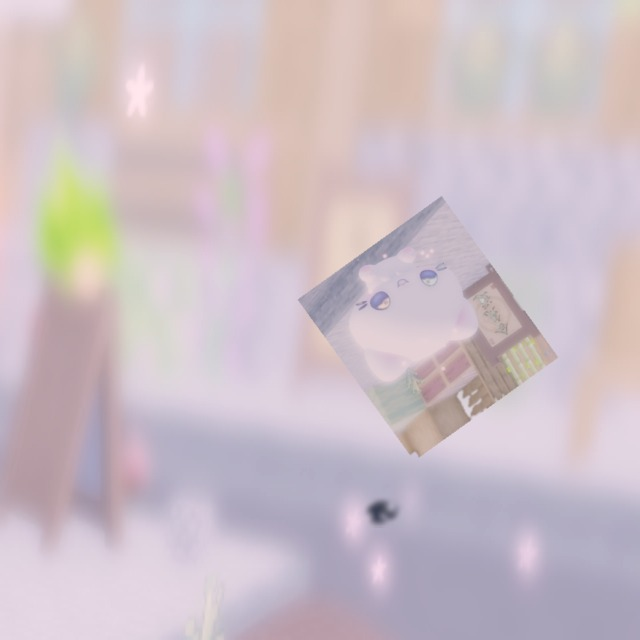urso_branco: (297, 196, 559, 461)
urso_preto: (361, 496, 404, 528)
